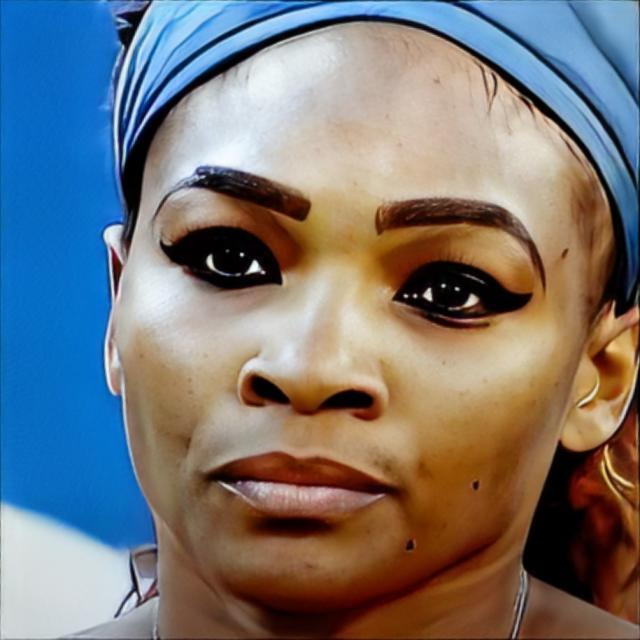neutral: (122, 15, 591, 618)
